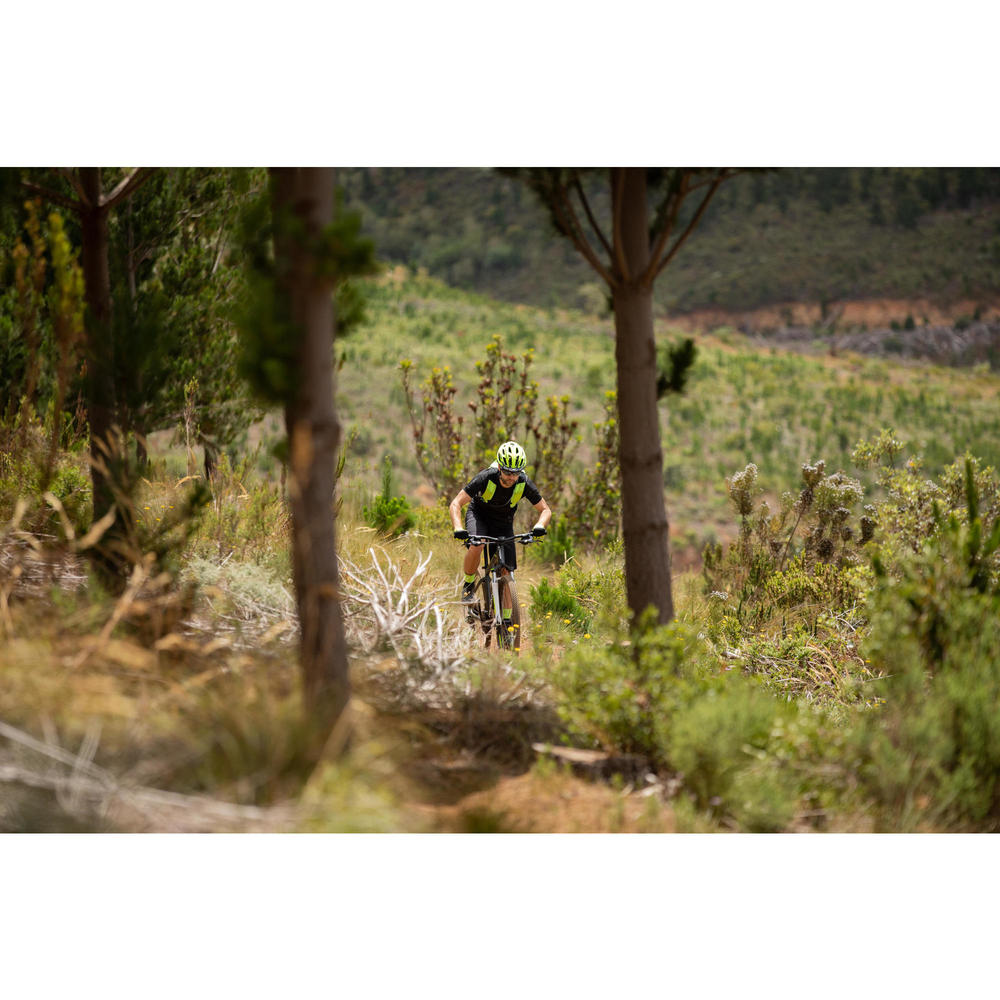MountainBike: (445, 521, 555, 666)
